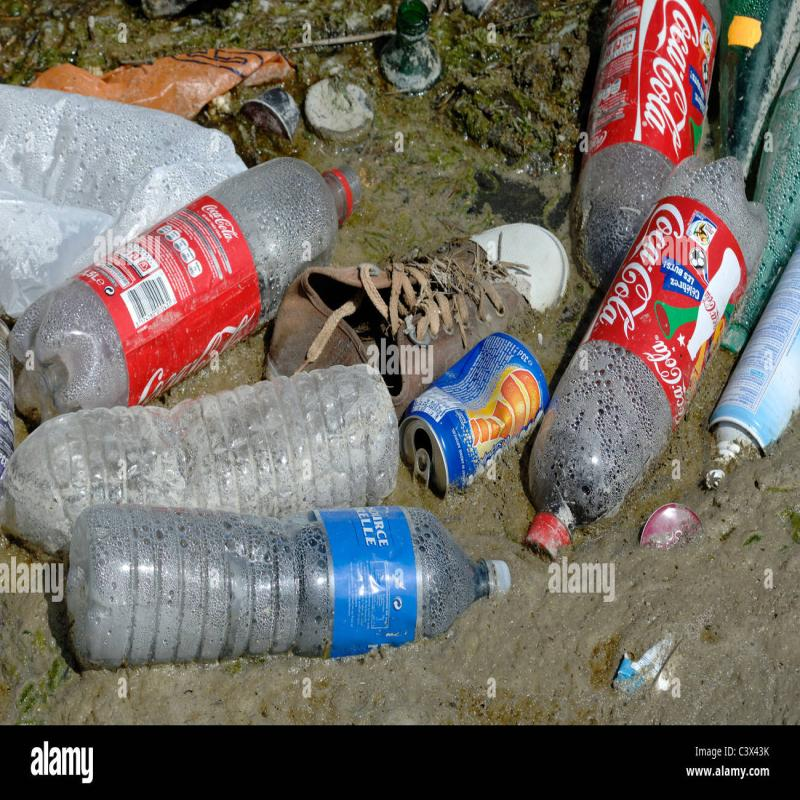botella: (7, 148, 368, 427), (532, 164, 766, 562), (0, 363, 403, 548), (65, 504, 511, 660), (573, 3, 712, 263)
